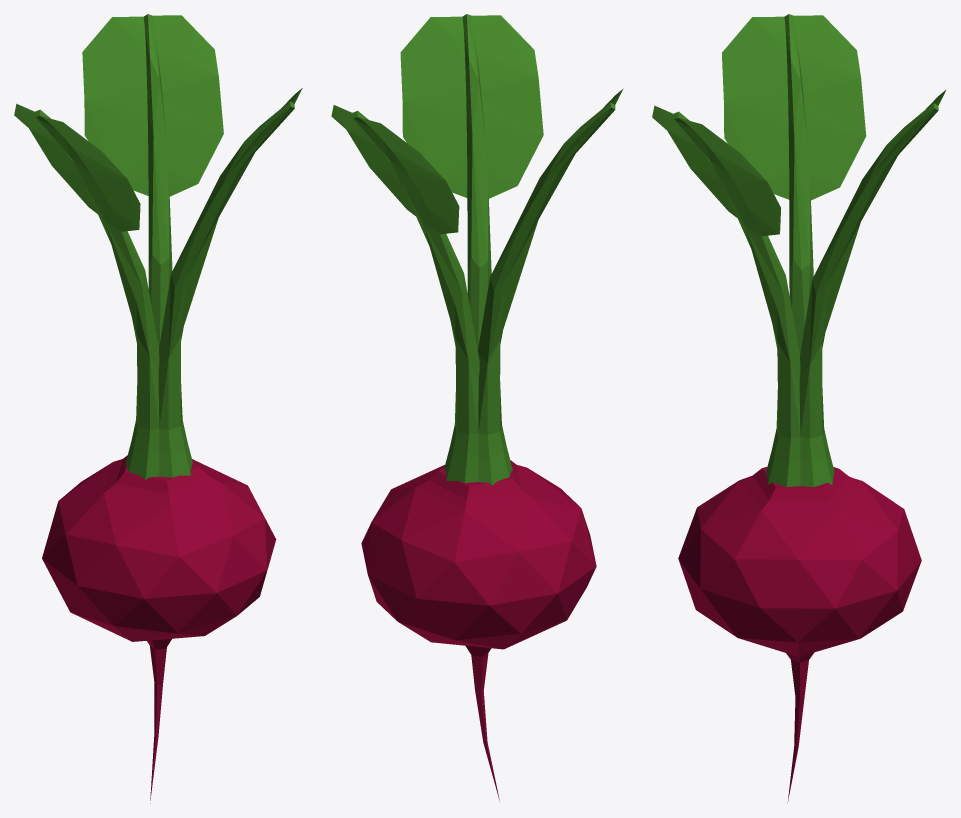
Rendered from beet.fbx.
The picture shows the model from 3 angles, left to right: view 1: azimuth 30°, elevation 25°; view 2: azimuth 150°, elevation 25°; view 3: azimuth 270°, elevation 25°; orthographic projection. The views are drawn at different scales.
Visible parts, largest first — view 1: beet; view 2: beet; view 3: beet.
Boxes of the visible parts, x1,y1,x2,y2 form: beet: (14,14,302,803); beet: (331,14,623,801); beet: (652,14,946,802).
Size of the model in its own units: 230 by 666 by 242.
